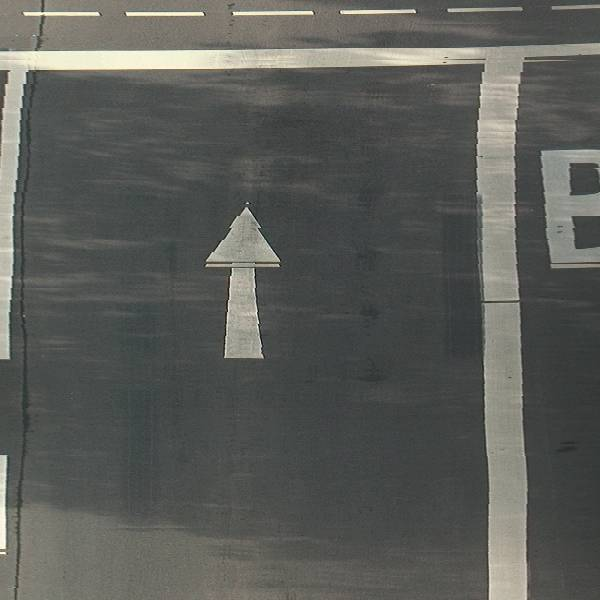road_damage: (12, 71, 46, 397), (347, 236, 398, 399)
